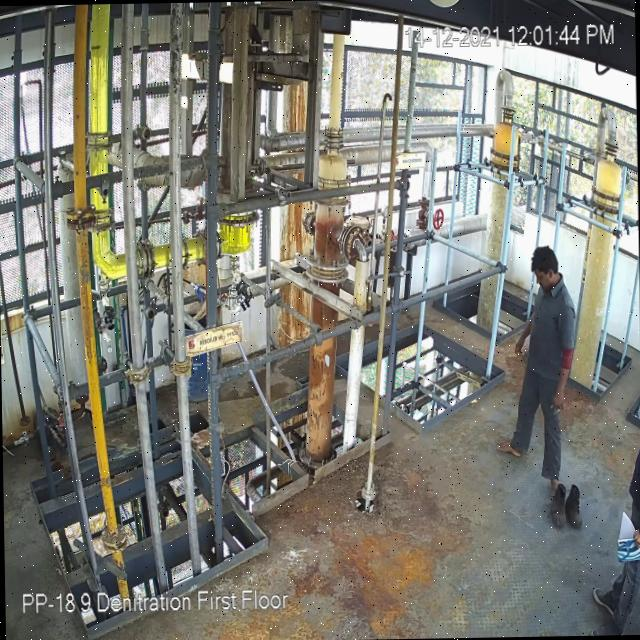boots: (566, 484, 584, 528), (550, 484, 565, 526)
no-boots: (494, 434, 525, 462)
